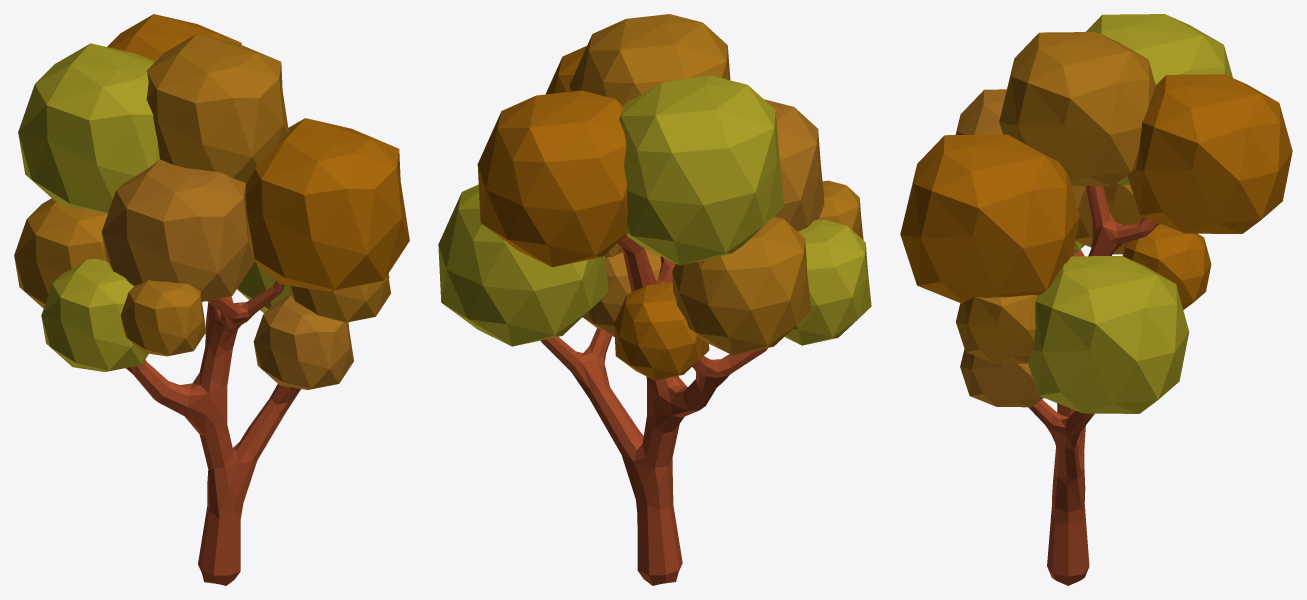
Rendered from treeMedium2.obj.
3 renders of one model, left to right at view 1: azimuth 30°, elevation 25°; view 2: azimuth 150°, elevation 25°; view 3: azimuth 270°, elevation 25°, orthographic. The views are drawn at different scales.
Visible parts, largest first — view 1: Icosphere.005_Icosphere.023, Icosphere.009_Icosphere.027, Icosphere.004_Icosphere.022, Icosphere_Icosphere.006, Cube.001_Cube.004, Icosphere.003_Icosphere.021, Icosphere.006_Icosphere.024, Icosphere.008_Icosphere.026, Icosphere.011_Icosphere.029, Icosphere.010_Icosphere.028, Icosphere.001_Icosphere.019, Icosphere.007_Icosphere.025; view 2: Icosphere.009_Icosphere.027, Icosphere.001_Icosphere.019, Cube.001_Cube.004, Icosphere.007_Icosphere.025, Icosphere.008_Icosphere.026, Icosphere_Icosphere.006, Icosphere.003_Icosphere.021, Icosphere.002_Icosphere.020, Icosphere.004_Icosphere.022, Icosphere.006_Icosphere.024, Icosphere.011_Icosphere.029, Icosphere.005_Icosphere.023; view 3: Icosphere.005_Icosphere.023, Icosphere.001_Icosphere.019, Icosphere.007_Icosphere.025, Icosphere_Icosphere.006, Cube.001_Cube.004, Icosphere.009_Icosphere.027, Icosphere.010_Icosphere.028, Icosphere.002_Icosphere.020, Icosphere.006_Icosphere.024, Icosphere.004_Icosphere.022, Icosphere.008_Icosphere.026.
Part boxes in pixels (x1,y1,x2,y2): Icosphere.005_Icosphere.023: (245,118,409,291); Icosphere.009_Icosphere.027: (18,43,159,214); Icosphere.004_Icosphere.022: (101,159,254,301); Icosphere_Icosphere.006: (146,34,288,184); Cube.001_Cube.004: (125,281,300,585); Icosphere.003_Icosphere.021: (41,259,148,371); Icosphere.006_Icosphere.024: (253,294,353,389); Icosphere.008_Icosphere.026: (14,198,107,308); Icosphere.011_Icosphere.029: (120,280,206,356); Icosphere.010_Icosphere.028: (289,274,390,322); Icosphere.001_Icosphere.019: (107,14,241,61); Icosphere.007_Icosphere.025: (237,262,389,313); Icosphere.009_Icosphere.027: (619,75,784,265); Icosphere.001_Icosphere.019: (477,90,627,267); Cube.001_Cube.004: (541,235,767,585); Icosphere.007_Icosphere.025: (438,184,608,346); Icosphere.008_Icosphere.026: (672,217,810,355); Icosphere_Icosphere.006: (569,14,730,105); Icosphere.003_Icosphere.021: (784,219,871,345); Icosphere.002_Icosphere.020: (614,283,709,380); Icosphere.004_Icosphere.022: (764,99,824,231); Icosphere.006_Icosphere.024: (582,248,661,337); Icosphere.011_Icosphere.029: (817,180,863,239); Icosphere.005_Icosphere.023: (546,46,586,94); Icosphere.005_Icosphere.023: (900,134,1079,303); Icosphere.001_Icosphere.019: (1127,74,1292,233); Icosphere.007_Icosphere.025: (1027,256,1189,413); Icosphere_Icosphere.006: (999,32,1155,186); Cube.001_Cube.004: (1028,186,1158,585); Icosphere.009_Icosphere.027: (1086,14,1232,184); Icosphere.010_Icosphere.028: (956,295,1037,363); Icosphere.002_Icosphere.020: (1122,224,1211,309); Icosphere.006_Icosphere.024: (960,349,1043,407); Icosphere.004_Icosphere.022: (955,89,1089,217); Icosphere.008_Icosphere.026: (1075,183,1161,254).
Size of the model in its own units: 4.65 by 6.6 by 4.36.
